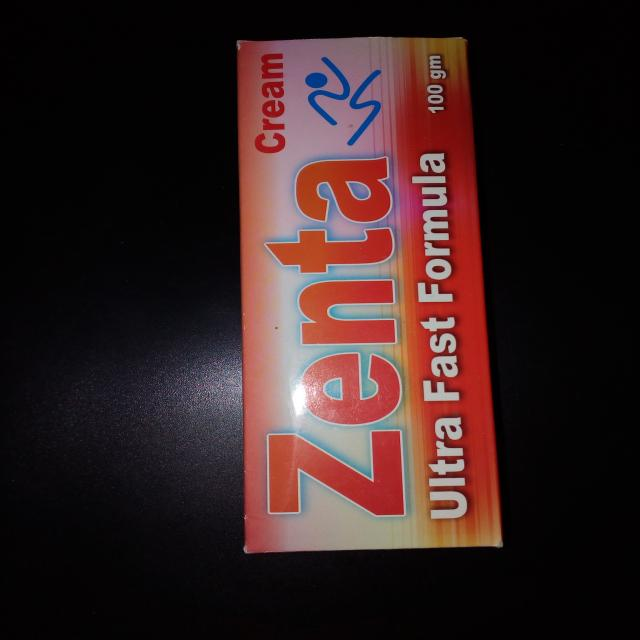Medicine: (229, 32, 512, 560)
